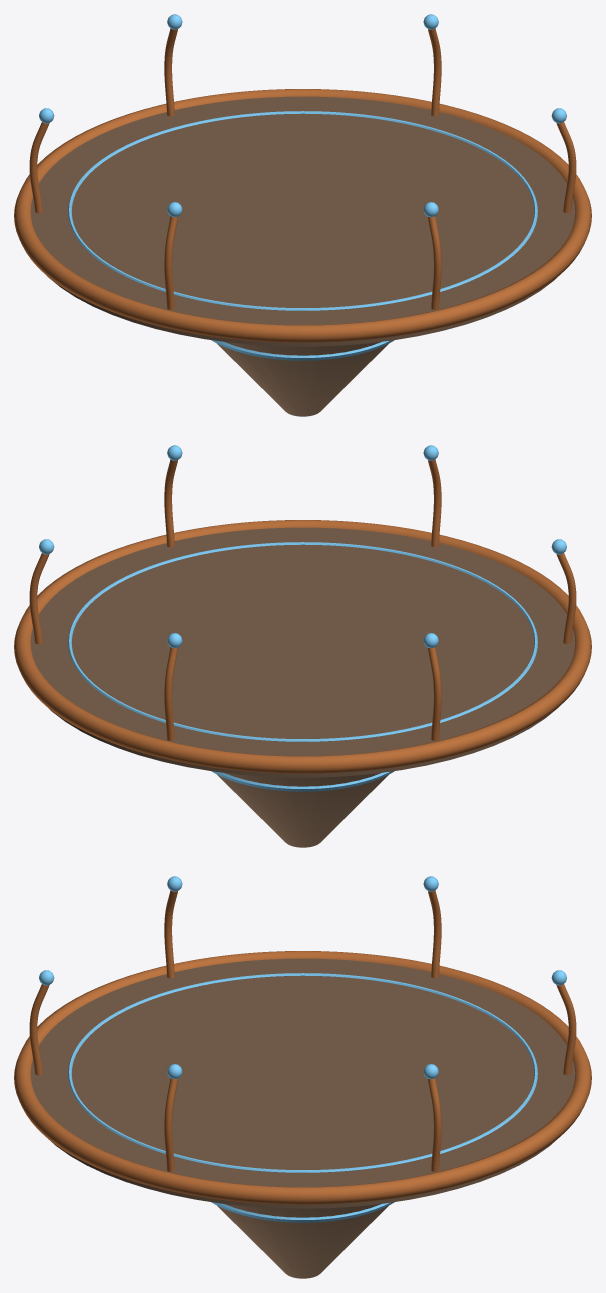
Rendered from ausguck.obj.
3 renders of one model, top to bottom at view 1: azimuth 30°, elevation 25°; view 2: azimuth 150°, elevation 25°; view 3: azimuth 270°, elevation 25°, orthographic.
Visible parts, largest first — view 1: Ausguck; view 2: Ausguck; view 3: Ausguck.
Part boxes in pixels (x1,y1,x2,y2): Ausguck: (14,14,591,416); Ausguck: (14,445,591,847); Ausguck: (14,876,591,1278).
Size of the model in its own units: 37.2 by 21.3 by 37.2.
